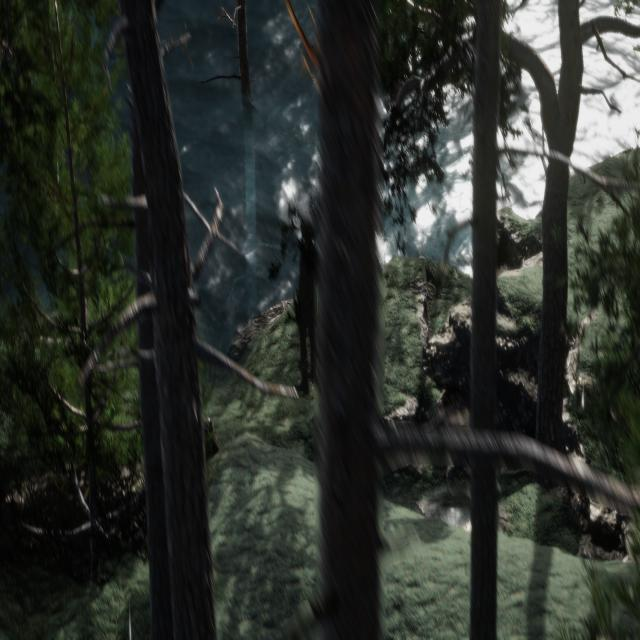Human: (278, 193, 324, 419)
